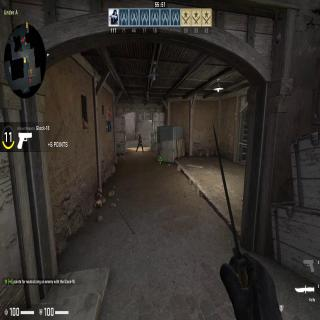CT-Body: (138, 132, 142, 150)
CT-Head: (139, 132, 141, 136)
